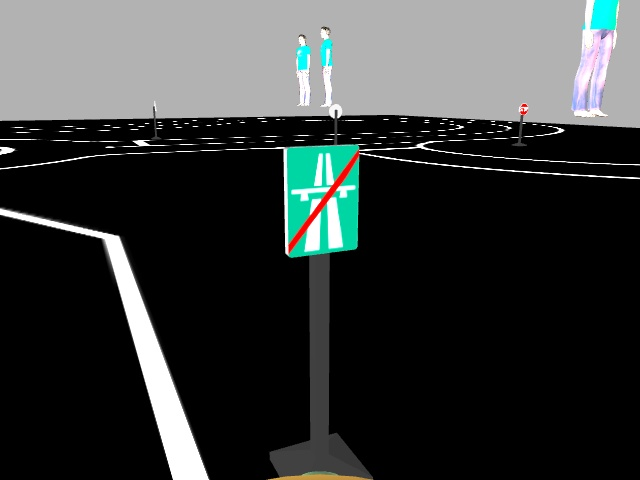HighwayExit: (288, 144, 359, 258)
